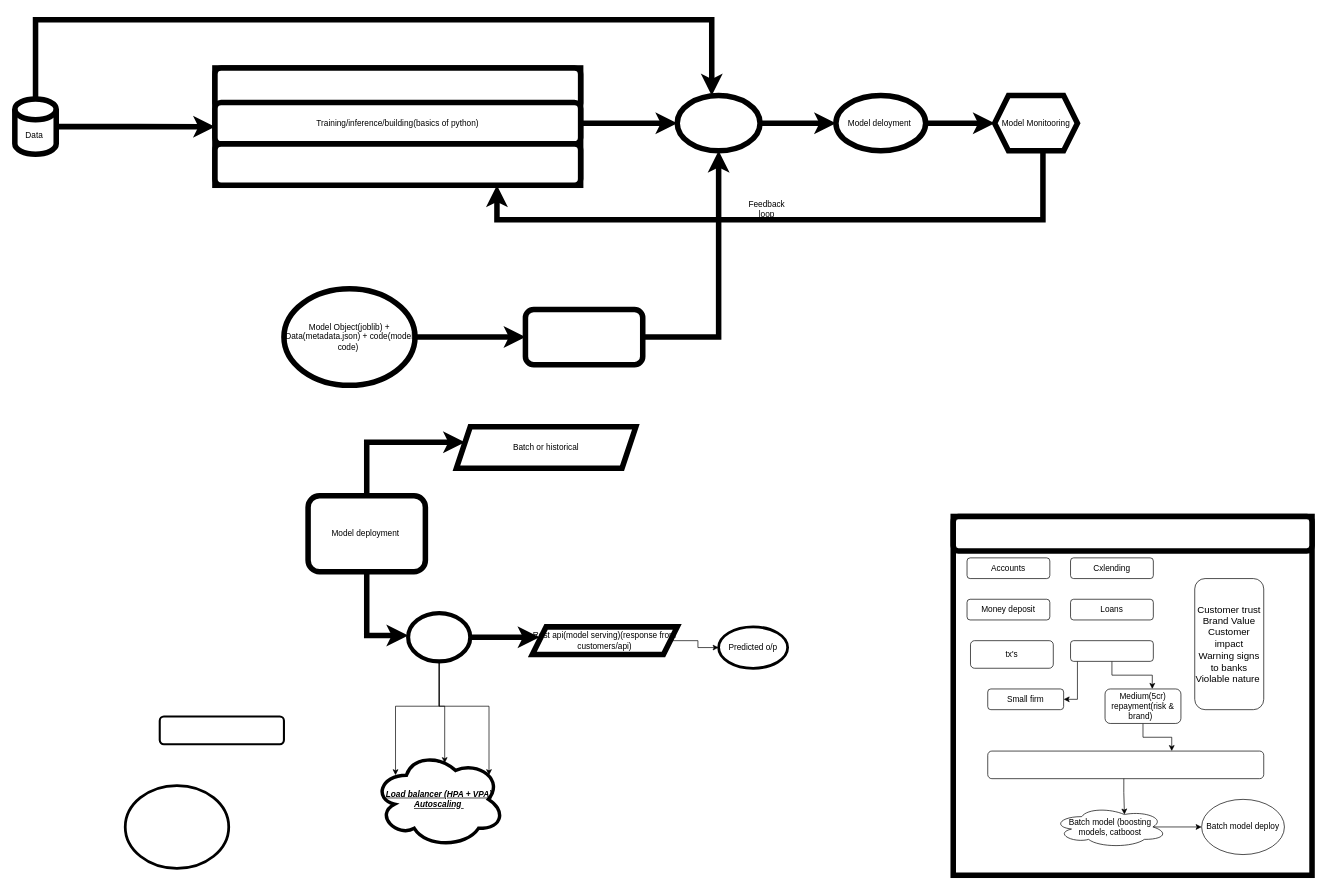
Image size: 1326x889. Some labels were removed from this diagram. The shapes that lost their labels are listed below. From the top down, each one's centre as x and y in pixels, then its label:
(x=397, y=88): ML algorithms and Systems development
(x=718, y=122): Github(MT/MF/MP
(x=397, y=164): Docker
(x=583, y=336): Wrapper for model dep object
(x=1132, y=533): Bank of Maharashtra
(x=439, y=637): finance_Credit
(x=1111, y=650): Merchant/loands
(x=221, y=730): Mobile (dialled)(metadata) + contacts sapce(data=contacts)
(x=1125, y=764): Sales, profit, Due payments, overdue payments, location/zone
(x=177, y=826): Json.dump/dumps(py dict --> json object json.load/loads(json --> py object
